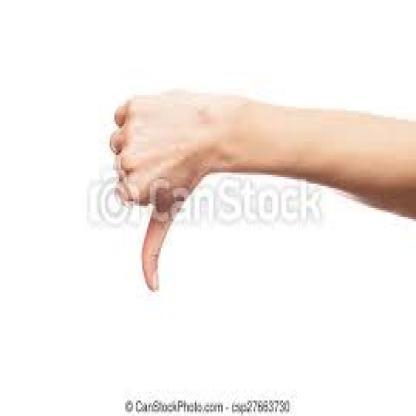thumb_down: (108, 82, 207, 295)
